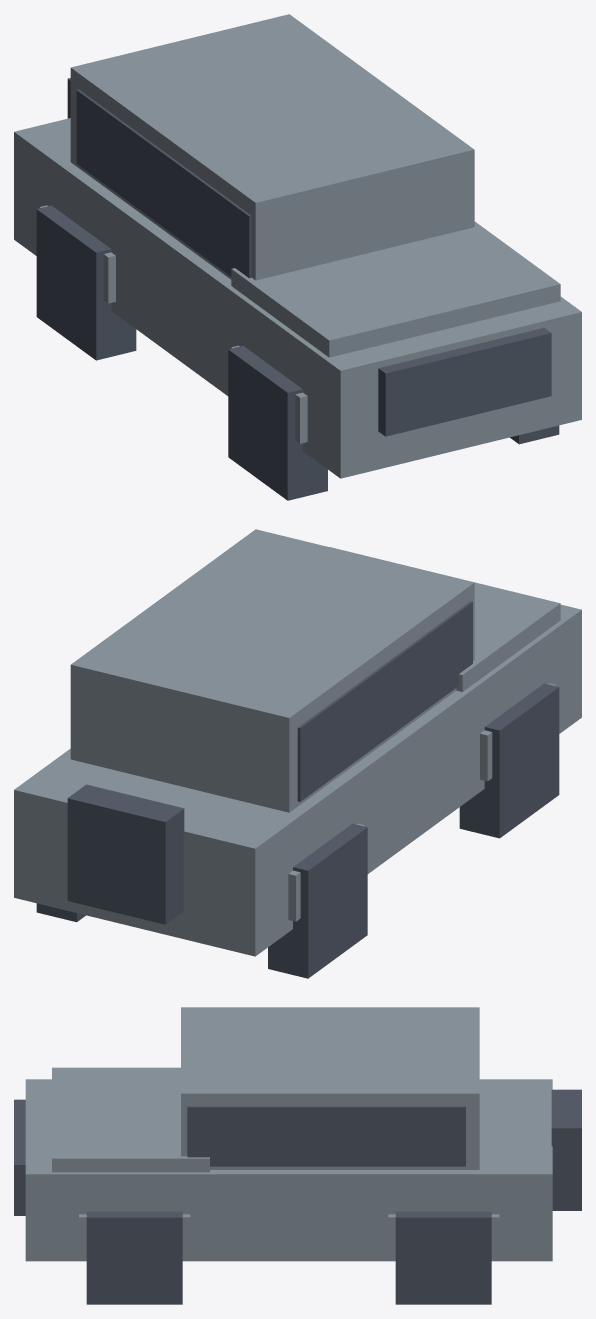
Rendered from defender_110.glb.
The picture shows the model from 3 angles, top to bottom: view 1: azimuth 30°, elevation 25°; view 2: azimuth 150°, elevation 25°; view 3: azimuth 270°, elevation 25°; orthographic projection. The views are drawn at different scales.
Parts seen in each view (by area): view 1: Body_Exterior_Paint, Rims_Wheels_Interior_Engine; view 2: Body_Exterior_Paint, Rims_Wheels_Interior_Engine; view 3: Body_Exterior_Paint, Rims_Wheels_Interior_Engine.
Boxes of the visible parts, x1,y1,x2,y2 form: Body_Exterior_Paint: [14, 14, 581, 478]; Rims_Wheels_Interior_Engine: [36, 78, 559, 500]; Body_Exterior_Paint: [14, 529, 581, 956]; Rims_Wheels_Interior_Engine: [36, 601, 559, 978]; Body_Exterior_Paint: [25, 1007, 552, 1261]; Rims_Wheels_Interior_Engine: [14, 1089, 581, 1304].
Bounding box in the file's own units: 2.16 × 1.89 × 4.85.
